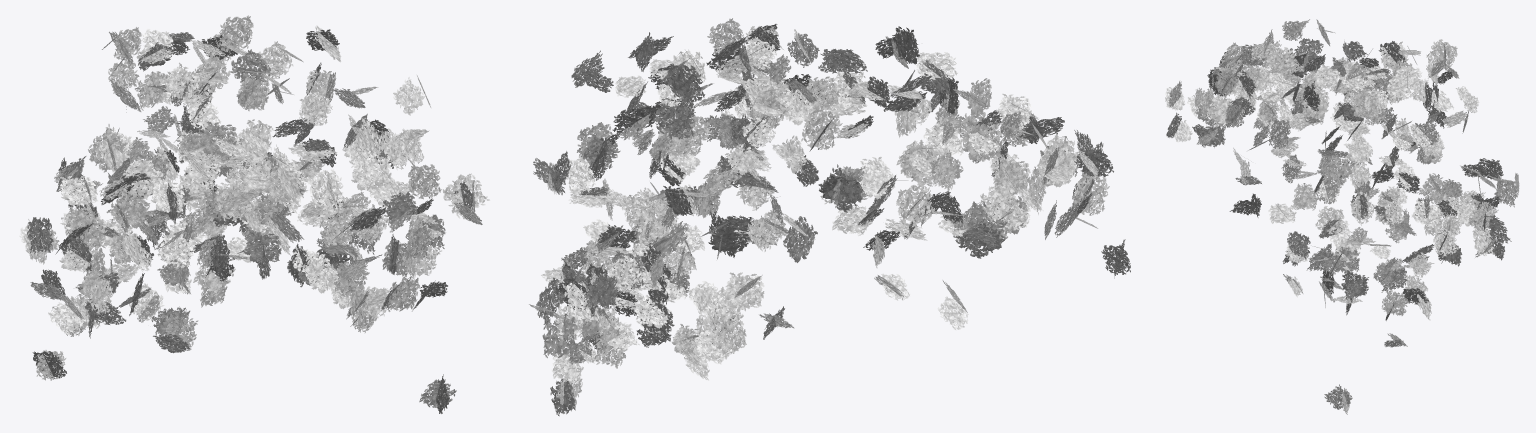
File: crown.glb
The picture shows the model from 3 angles, left to right: view 1: azimuth 30°, elevation 25°; view 2: azimuth 150°, elevation 25°; view 3: azimuth 270°, elevation 25°; orthographic projection. The views are drawn at different scales.
Parts seen in each view (by area): view 1: crown_lod0; view 2: crown_lod0; view 3: crown_lod0.
Part boxes in pixels (<box>): crown_lod0: <box>19,15,489,413</box>; crown_lod0: <box>529,18,1130,416</box>; crown_lod0: <box>1165,19,1519,414</box>.
Size of what is drawn, in the model's own units: 15.8 by 12.05 by 13.2.
1 material, 1 textured.
